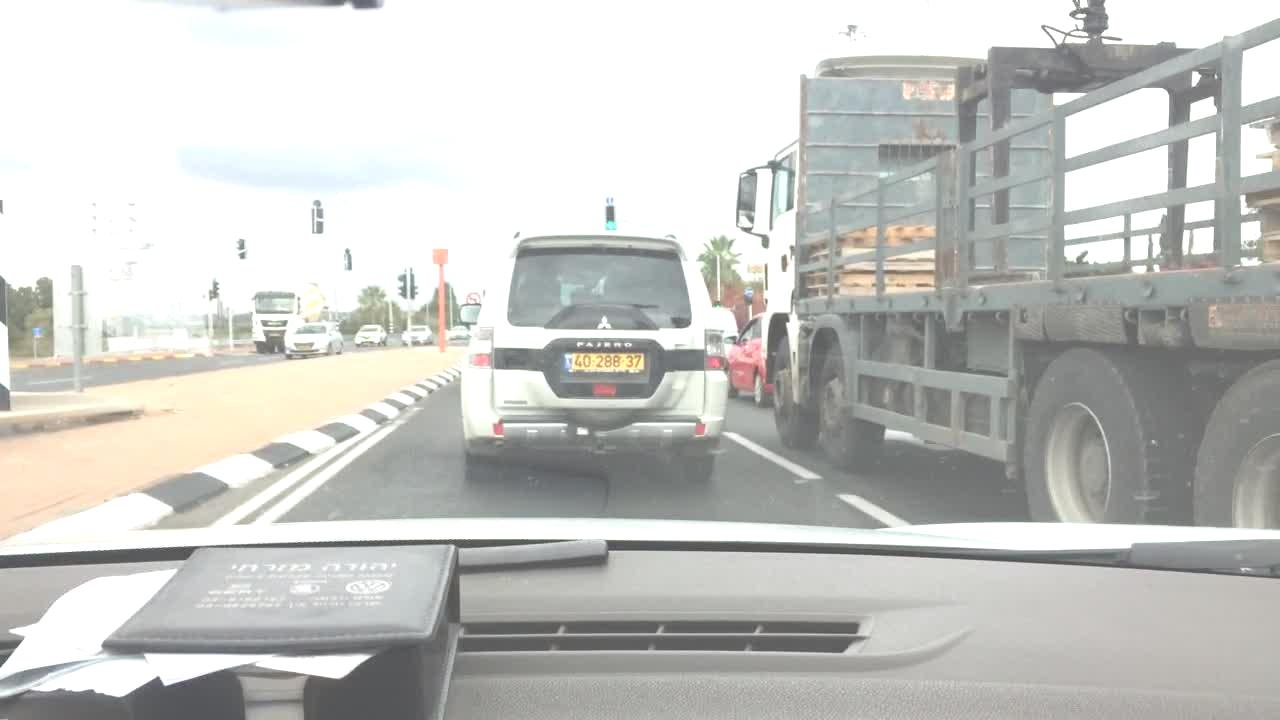Mitsubishi: (592, 309, 615, 337)
